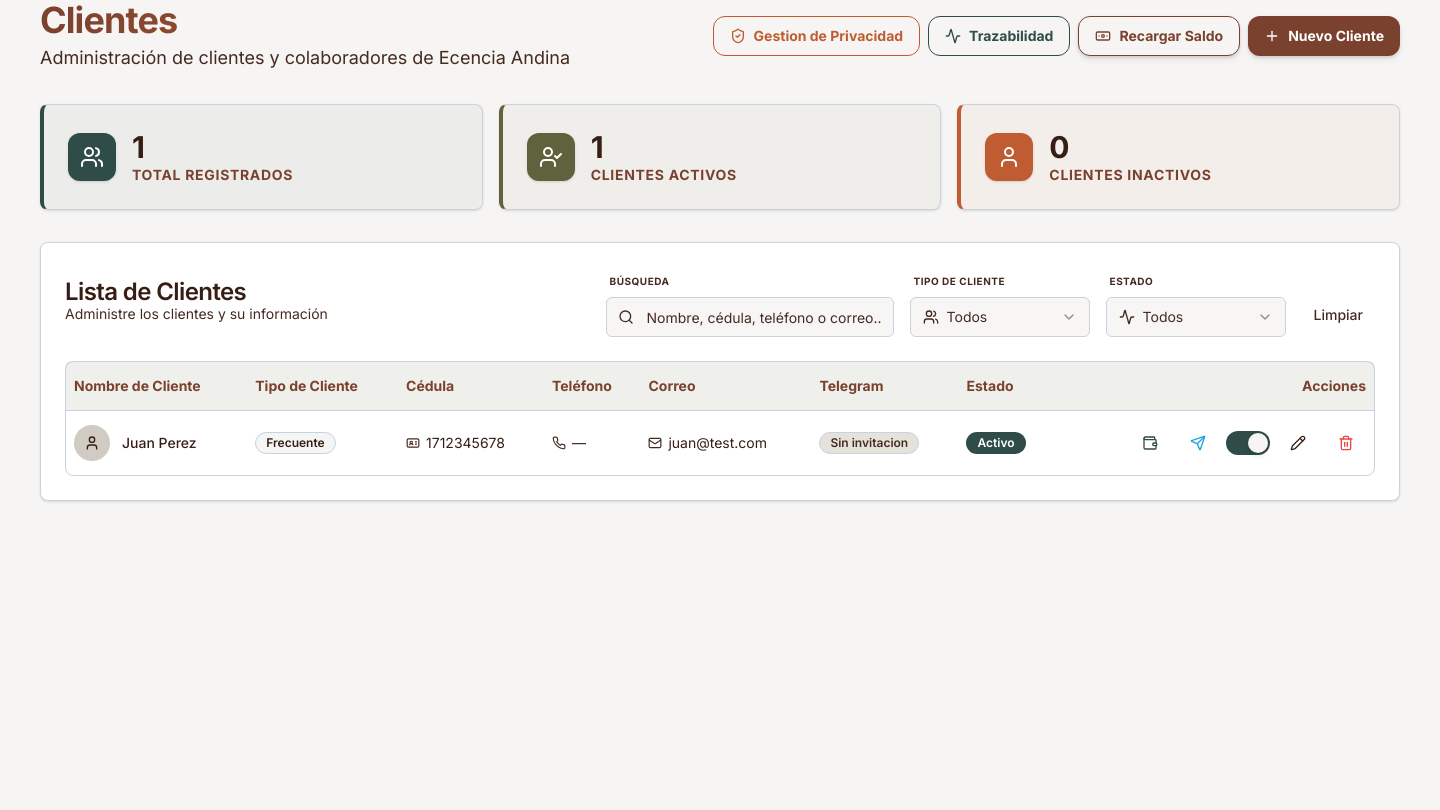
Test case: Clientes › permite abrir la gestion de privacidad
Click the button "Gestion de Privacidad": (816, 36) [713, 16, 920, 56]
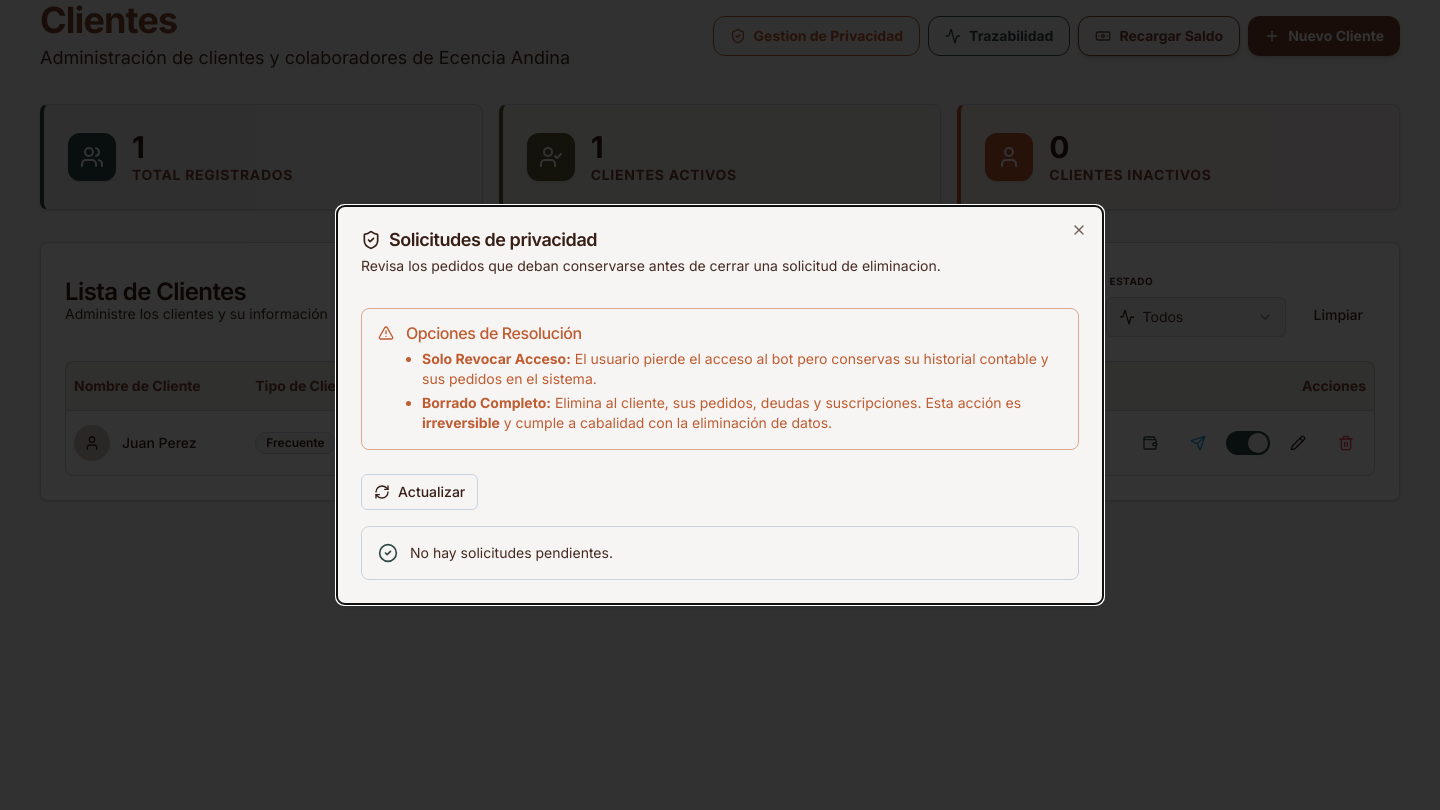
Check: the dialog is shown, box [336, 205, 1104, 605]
